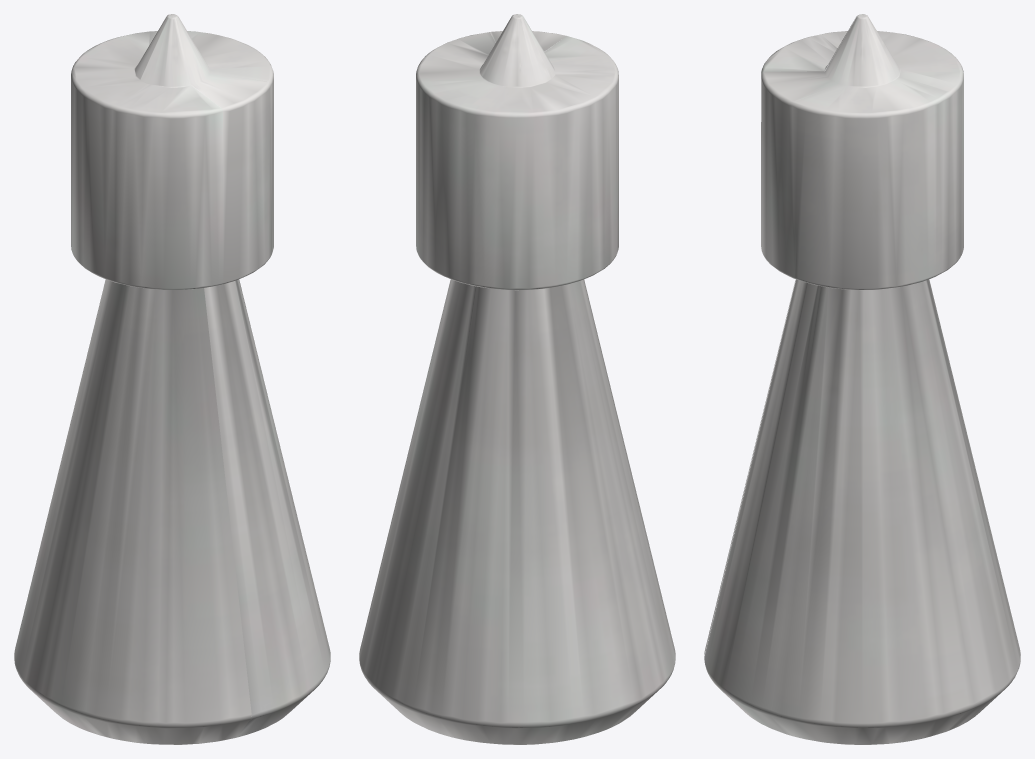
The model's file is 02_dama_bila.glb.
3 renders of one model, left to right at view 1: azimuth 30°, elevation 25°; view 2: azimuth 150°, elevation 25°; view 3: azimuth 270°, elevation 25°, orthographic.
Visible parts, largest first — view 1: 02_dama_bila; view 2: 02_dama_bila; view 3: 02_dama_bila.
Boxes of the visible parts, x1,y1,x2,y2 form: 02_dama_bila: (14,14,330,744); 02_dama_bila: (359,14,675,744); 02_dama_bila: (704,14,1020,744).
Size of the model in its own units: 0.0349 by 0.0822 by 0.0349.
Materials: 1 (1 with a texture image).
